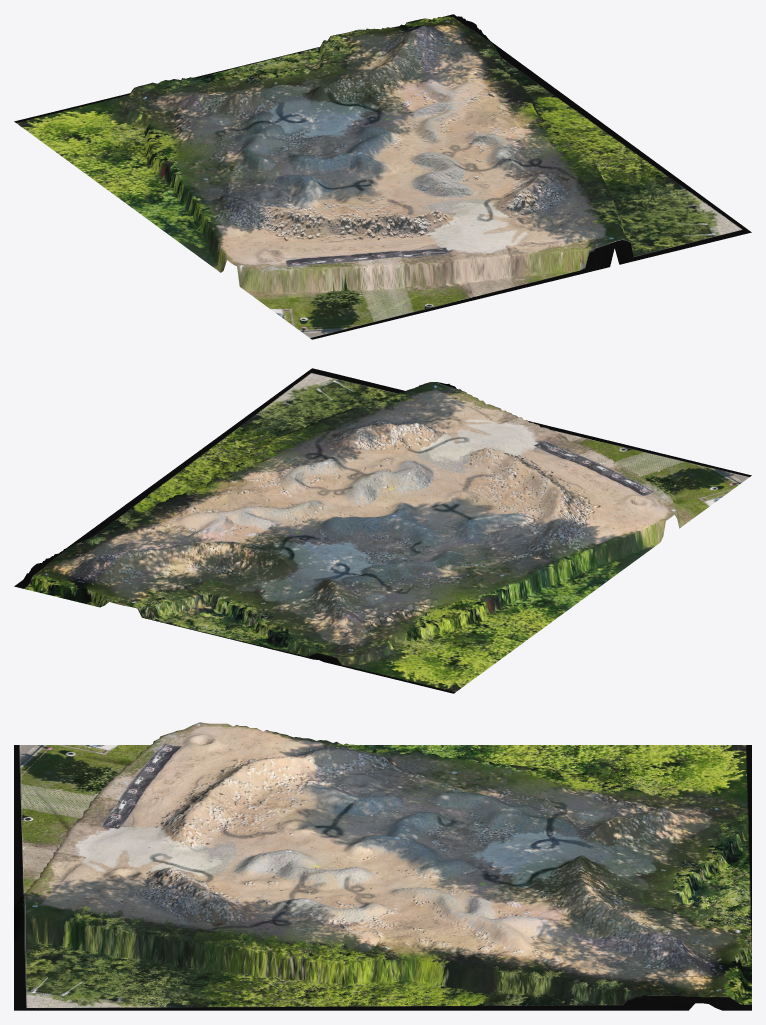
The model's file is marsyard.fbx.
3 renders of one model, top to bottom at view 1: azimuth 30°, elevation 25°; view 2: azimuth 150°, elevation 25°; view 3: azimuth 270°, elevation 25°, orthographic. The views are drawn at different scales.
Visible parts, largest first — view 1: displaced_plane; view 2: displaced_plane; view 3: displaced_plane.
Part boxes in pixels (x1,y1,x2,y2): displaced_plane: [14, 14, 751, 339]; displaced_plane: [14, 368, 751, 693]; displaced_plane: [14, 722, 751, 1010].
Size of the model in its own units: 3691 by 269 by 4336.
Materials: 1 (1 with a texture image).
